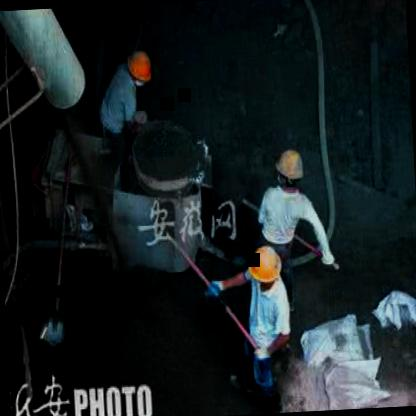helmet: (244, 242, 284, 294), (273, 142, 306, 194), (121, 48, 156, 90)
